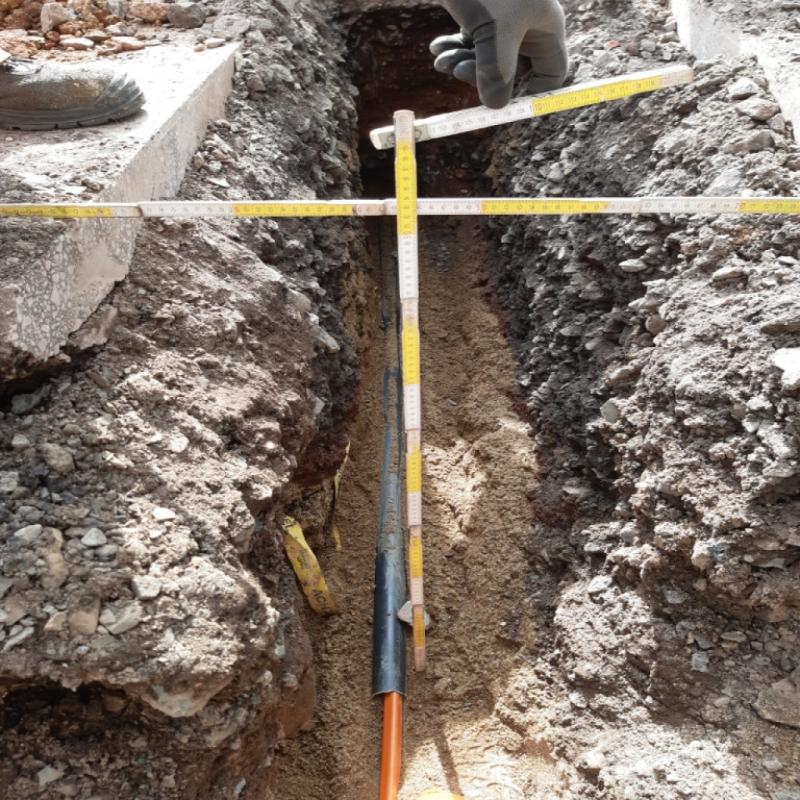Orang-Speednetrohrchen: (378, 701, 402, 800)
